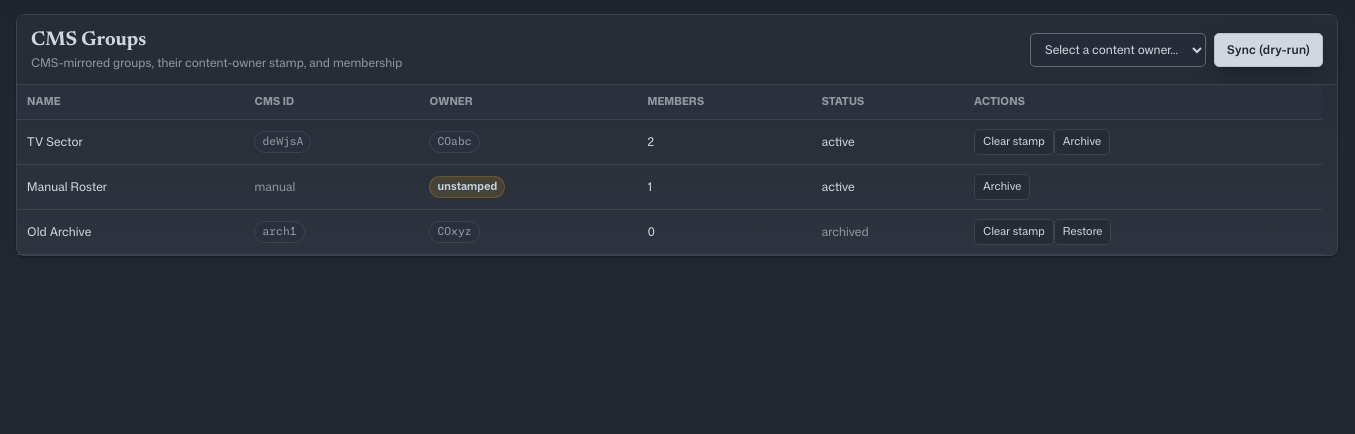
Test: GroupsView clear-stamp flow › shows generic copy on a 500 and never renders raw backend internals
Expected: the text "TV Sector" is shown, [17,119,244,164]
Click the button "Clear stamp" in the row of "TV Sector" at (1014, 142), box [974,129,1054,155]
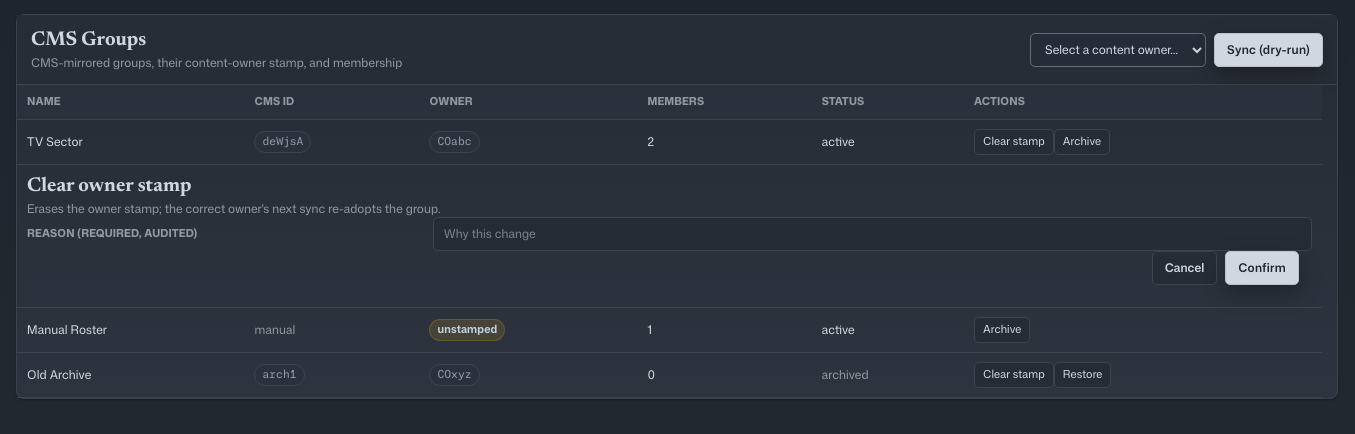
Type "wrong owner stamp" into the field labelled "Reason (required, audited)" at (872, 234), box [433,217,1312,251]
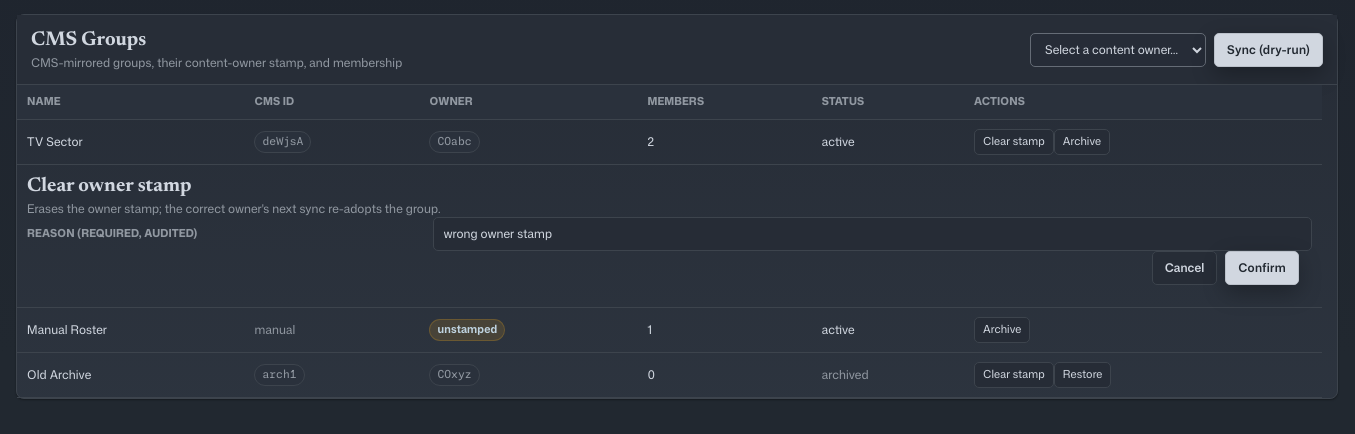
Click the button "Confirm" at (1262, 268), box [1225,251,1299,285]
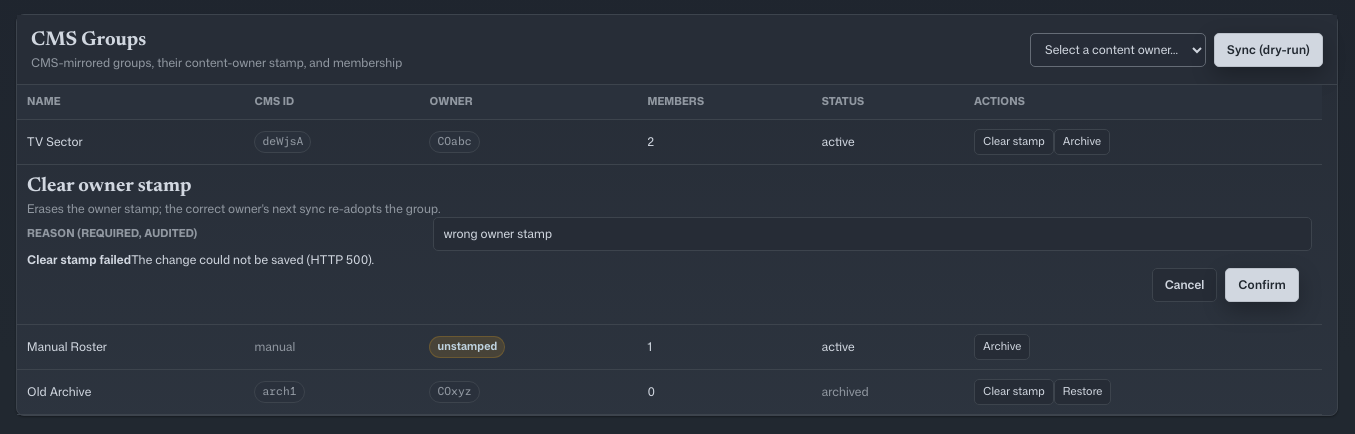
Expected: the text "The change could not be saved (HTTP 500)." is shown, [131,251,374,268]
